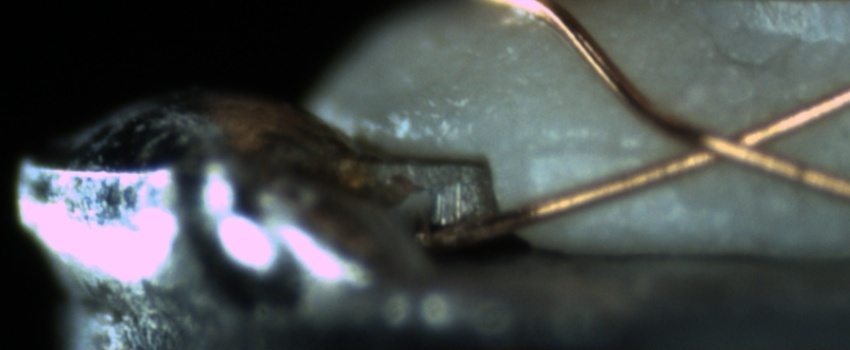CL: (646, 100, 808, 183)
DL: (527, 117, 647, 178)
